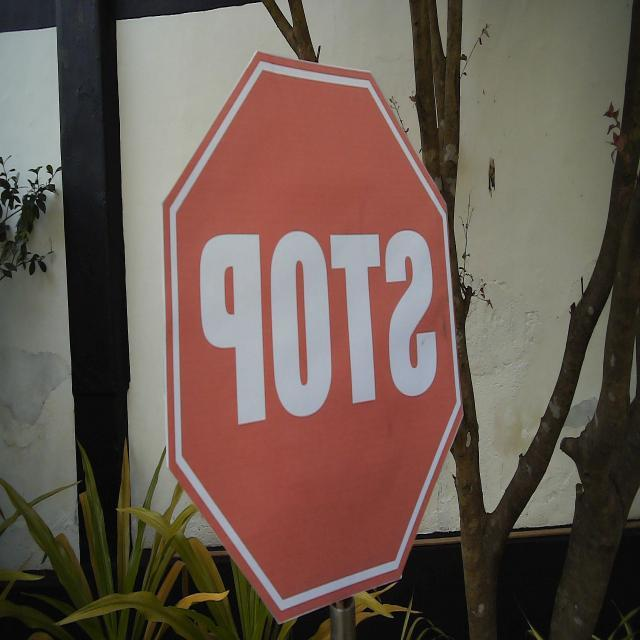stop: (160, 46, 466, 628)
